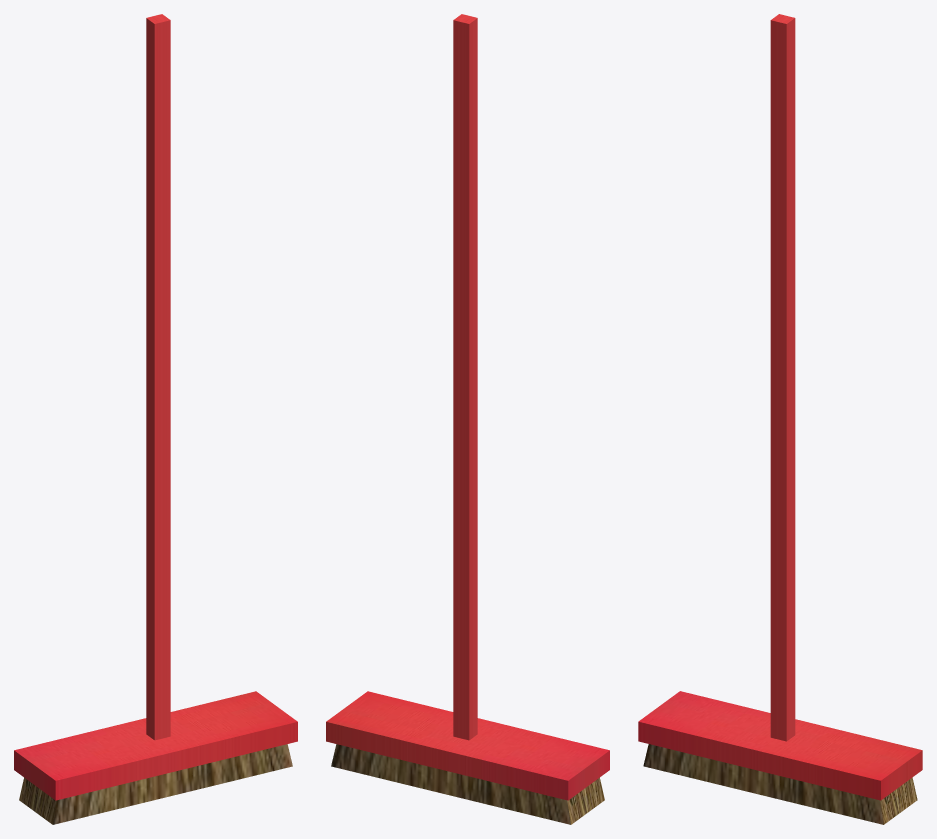
Rendered from broom.FBX.
3 renders of one model, left to right at view 1: azimuth 30°, elevation 25°; view 2: azimuth 150°, elevation 25°; view 3: azimuth 330°, elevation 25°, orthographic.
Visible parts, largest first — view 1: broom; view 2: broom; view 3: broom.
Part boxes in pixels (left/top/right/bottom): broom: left=14, top=14, right=297, bottom=824; broom: left=326, top=14, right=609, bottom=824; broom: left=638, top=14, right=922, bottom=824.
Size of the model in its own units: 30.02 by 90.47 by 8.96.
